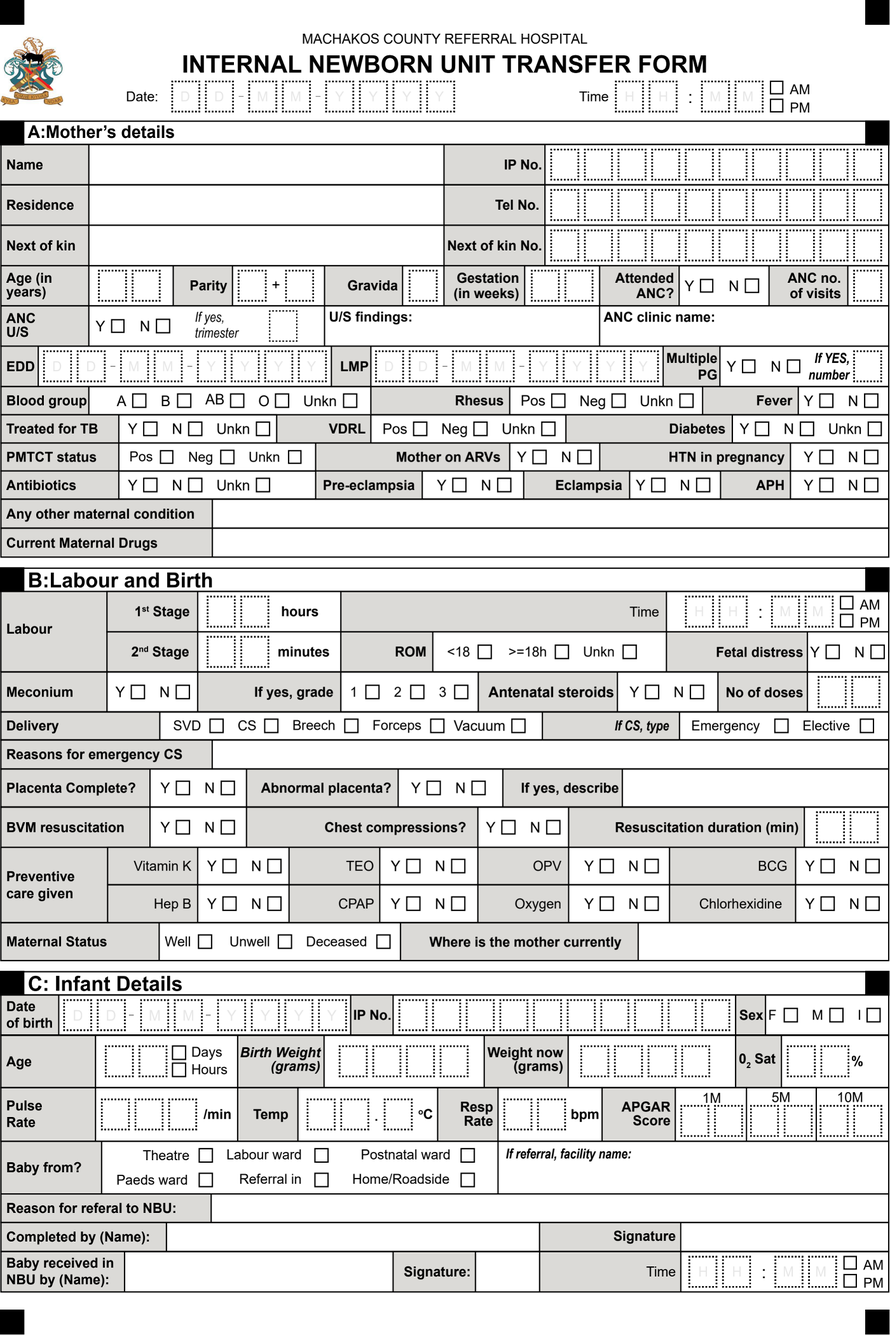mask: (93, 148, 442, 261), (549, 149, 887, 263), (500, 1144, 886, 1191), (79, 28, 858, 48), (396, 997, 732, 1033), (603, 308, 885, 344), (168, 1224, 537, 1249), (127, 1254, 390, 1289), (3, 34, 70, 109), (683, 1224, 887, 1248), (477, 1253, 537, 1290)
